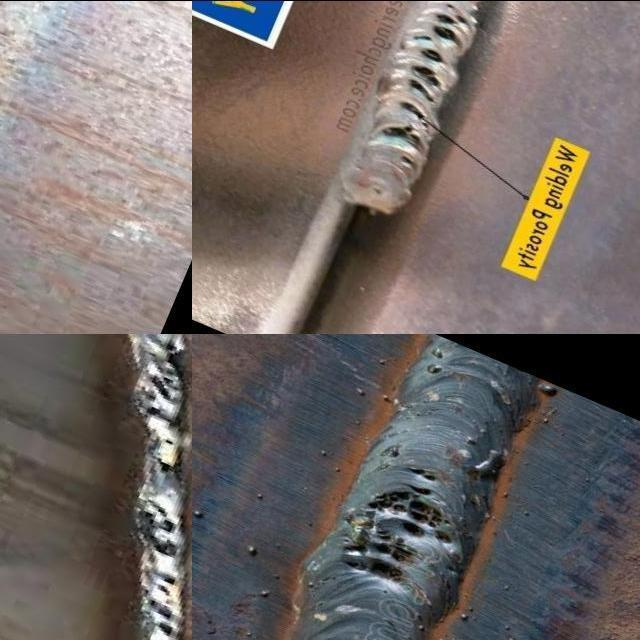defect: (366, 483, 453, 550), (338, 527, 414, 585), (132, 500, 184, 560), (139, 357, 181, 422), (150, 571, 185, 639), (410, 10, 469, 50), (378, 123, 424, 149), (396, 98, 431, 132), (411, 65, 442, 87), (155, 333, 185, 355), (151, 451, 175, 477), (408, 79, 434, 102), (404, 465, 437, 481), (418, 47, 445, 63), (398, 153, 416, 169), (162, 437, 176, 448), (446, 4, 455, 9)
